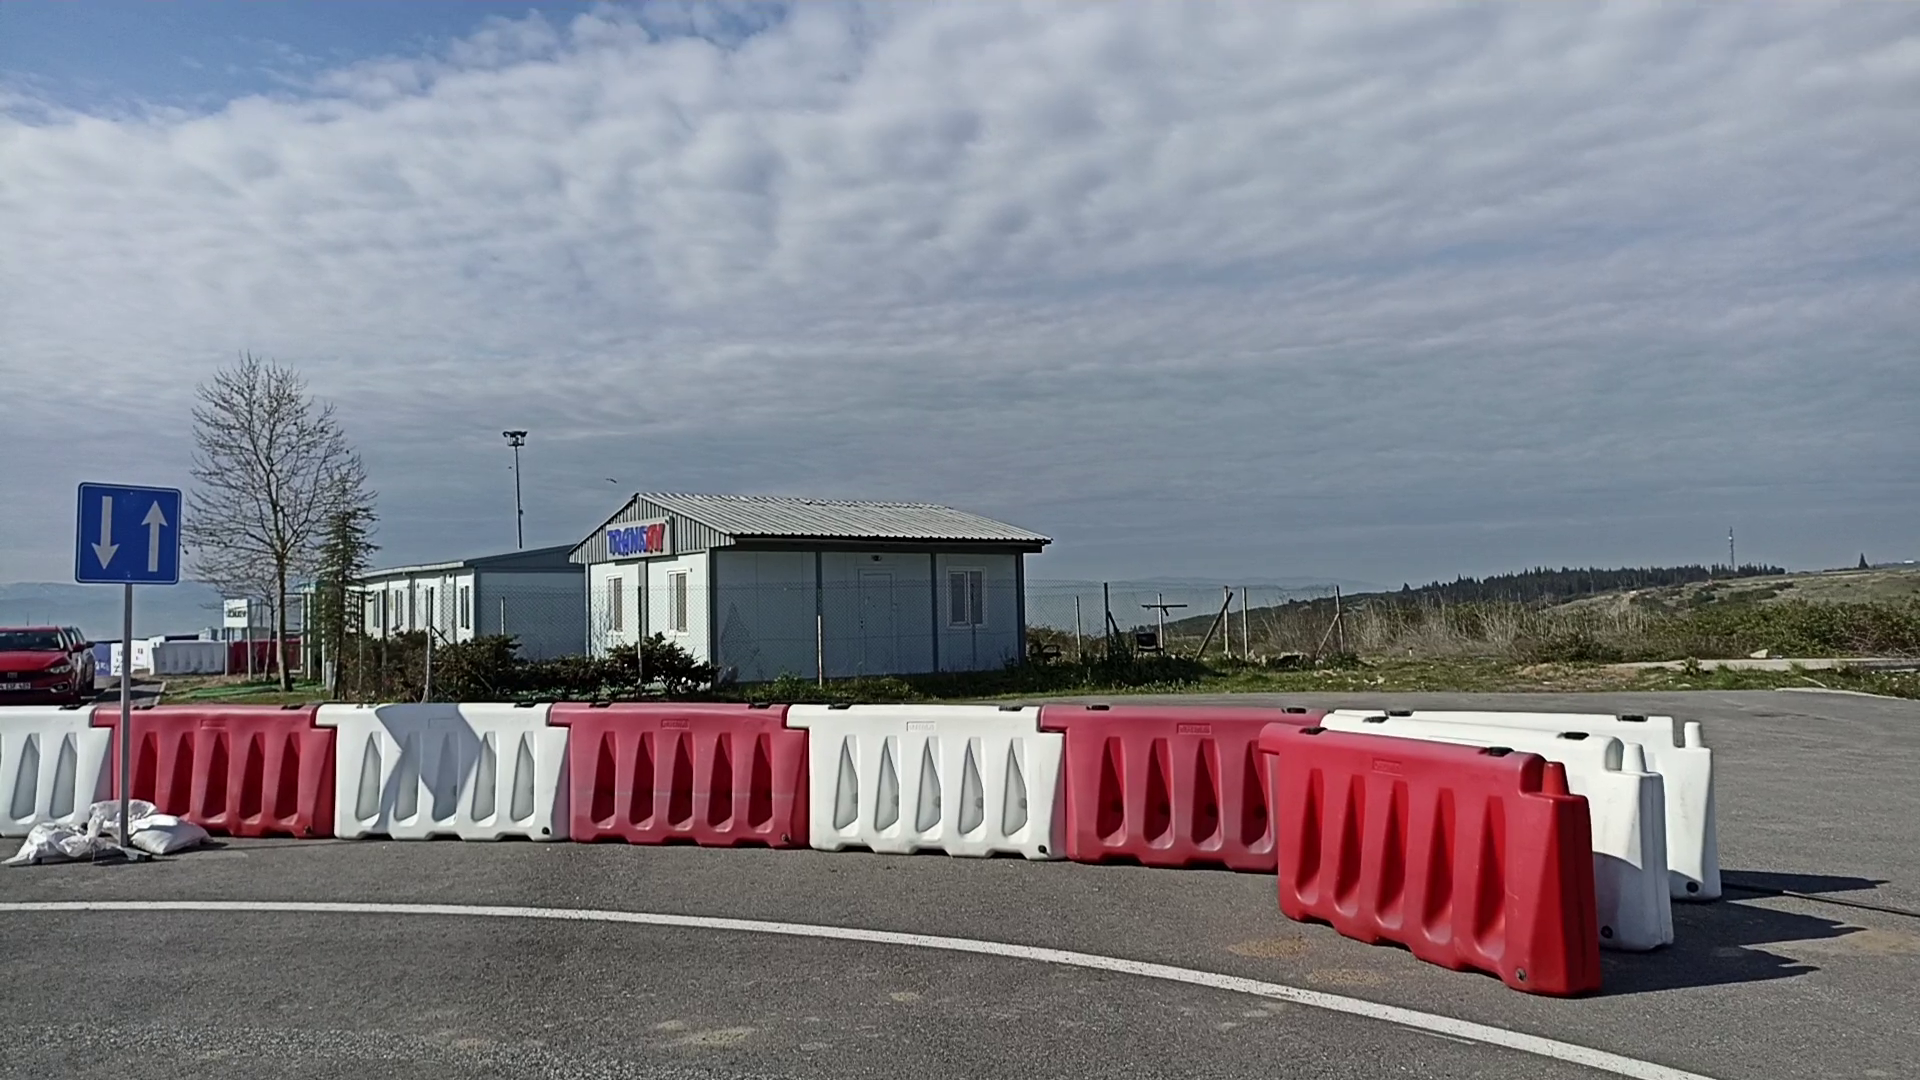oneway: (73, 483, 183, 587)
